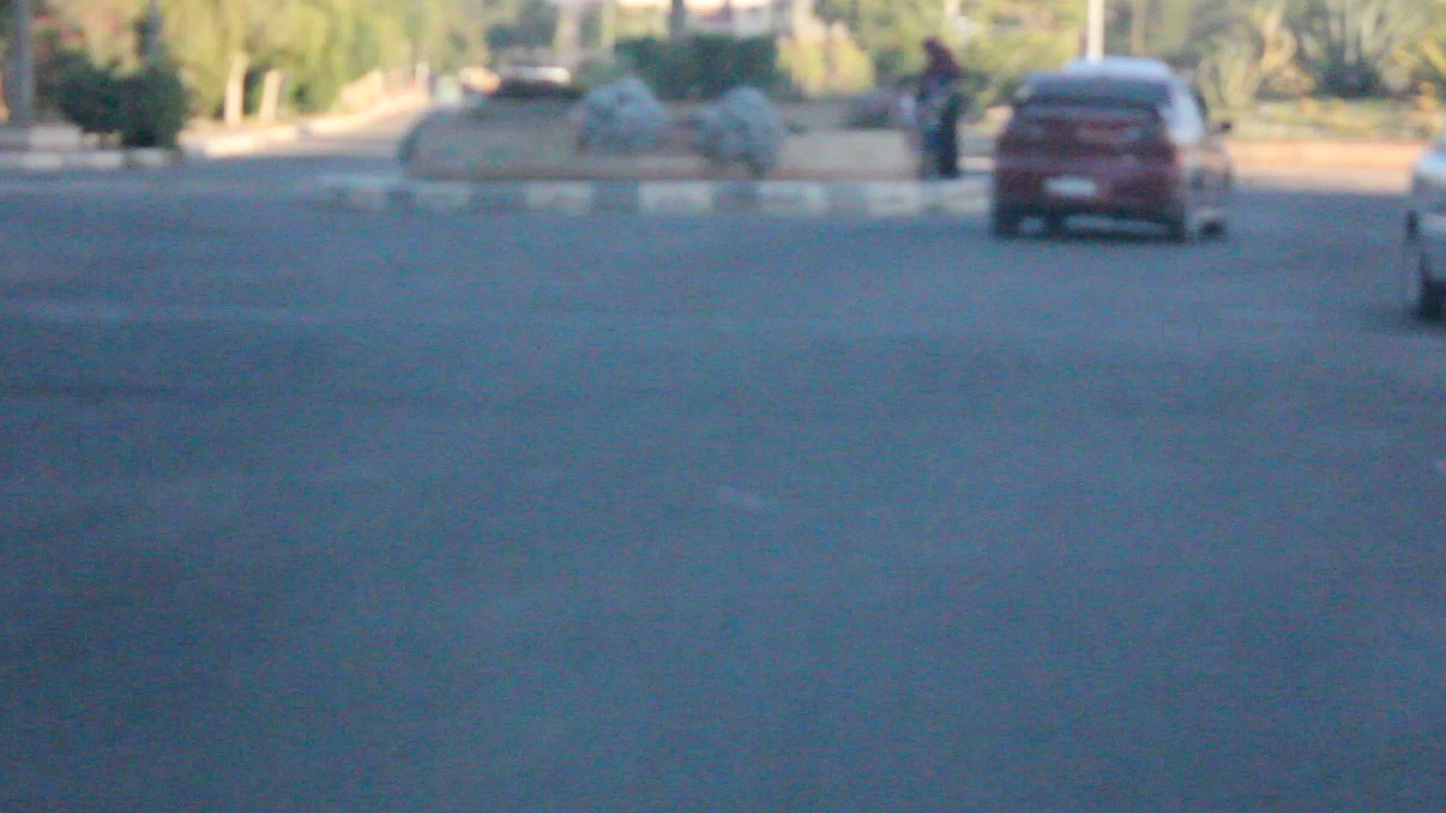Bump: (8, 290, 1442, 428)
